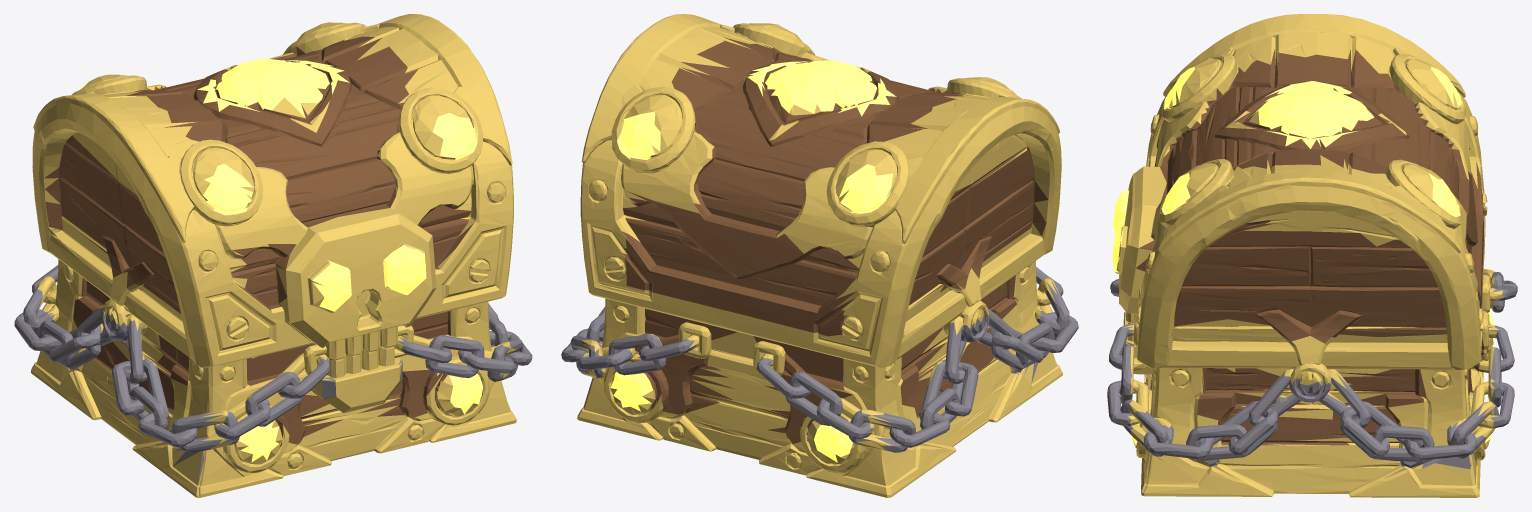
The model's file is scrigno_fortnite.glb.
3 renders of one model, left to right at view 1: azimuth 30°, elevation 25°; view 2: azimuth 150°, elevation 25°; view 3: azimuth 270°, elevation 25°, orthographic.
Visible parts, largest first — view 1: scrigno_coperchio, scrigno_base; view 2: scrigno_coperchio, scrigno_base; view 3: scrigno_coperchio, scrigno_base.
Part boxes in pixels (bbox=[...]): scrigno_coperchio: bbox=[32, 14, 513, 349]; scrigno_base: bbox=[14, 229, 532, 497]; scrigno_coperchio: bbox=[580, 14, 1061, 348]; scrigno_base: bbox=[561, 231, 1078, 497]; scrigno_coperchio: bbox=[1112, 14, 1487, 350]; scrigno_base: bbox=[1107, 216, 1517, 497].
Size of the model in its own units: 1 by 0.8351 by 0.9569.
